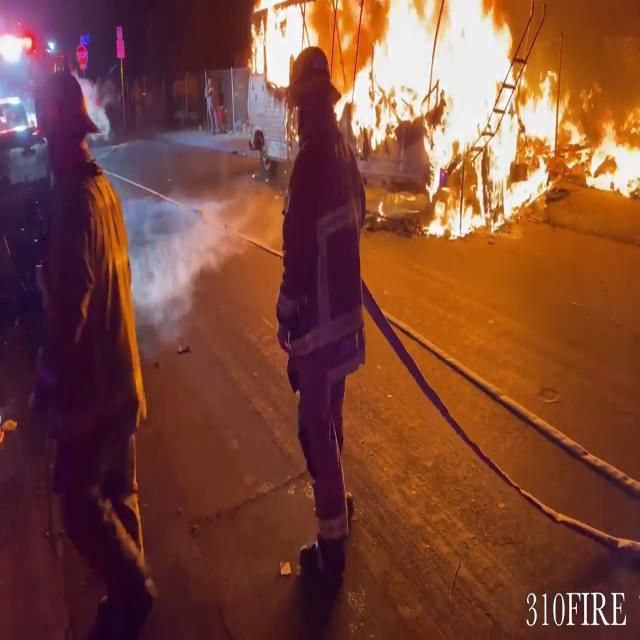Fire: (347, 0, 640, 234), (247, 0, 320, 91)
